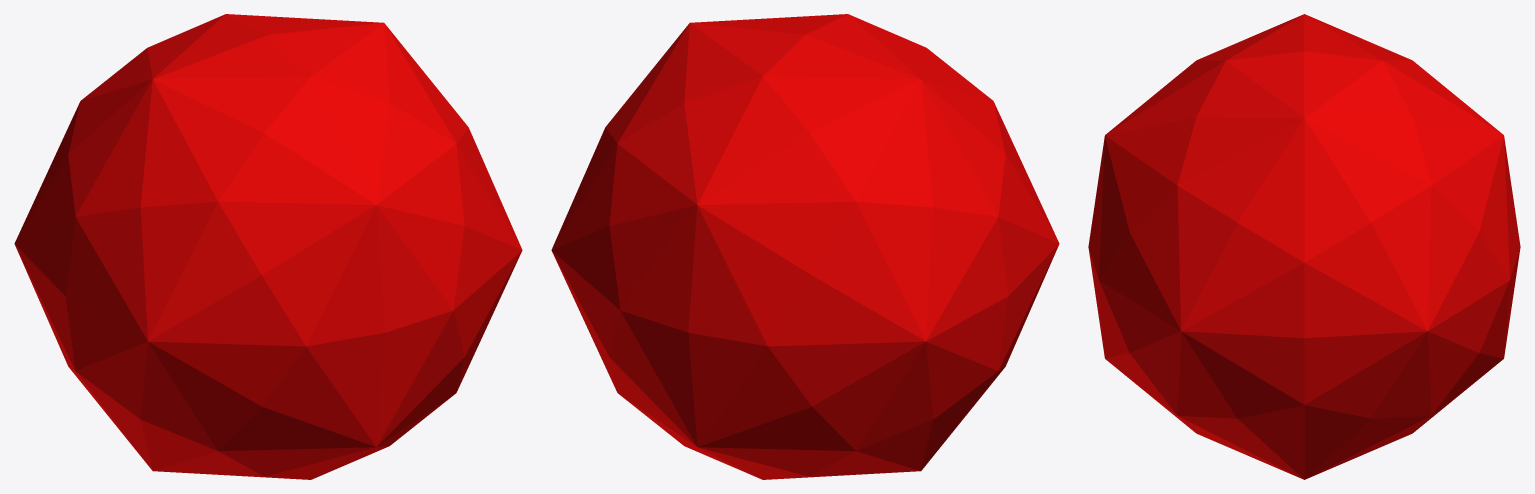
The picture shows the model from 3 angles, left to right: view 1: azimuth 30°, elevation 25°; view 2: azimuth 150°, elevation 25°; view 3: azimuth 270°, elevation 25°; orthographic projection. The views are drawn at different scales.
Visible parts, largest first — view 1: DisdyakisTriacontahedron; view 2: DisdyakisTriacontahedron; view 3: DisdyakisTriacontahedron.
Boxes of the visible parts, x1,y1,x2,y2 form: DisdyakisTriacontahedron: (14, 14, 522, 479); DisdyakisTriacontahedron: (551, 14, 1059, 479); DisdyakisTriacontahedron: (1088, 14, 1520, 479).
Bounding box in the file's own units: 0.5455 × 0.5455 × 0.5455.
